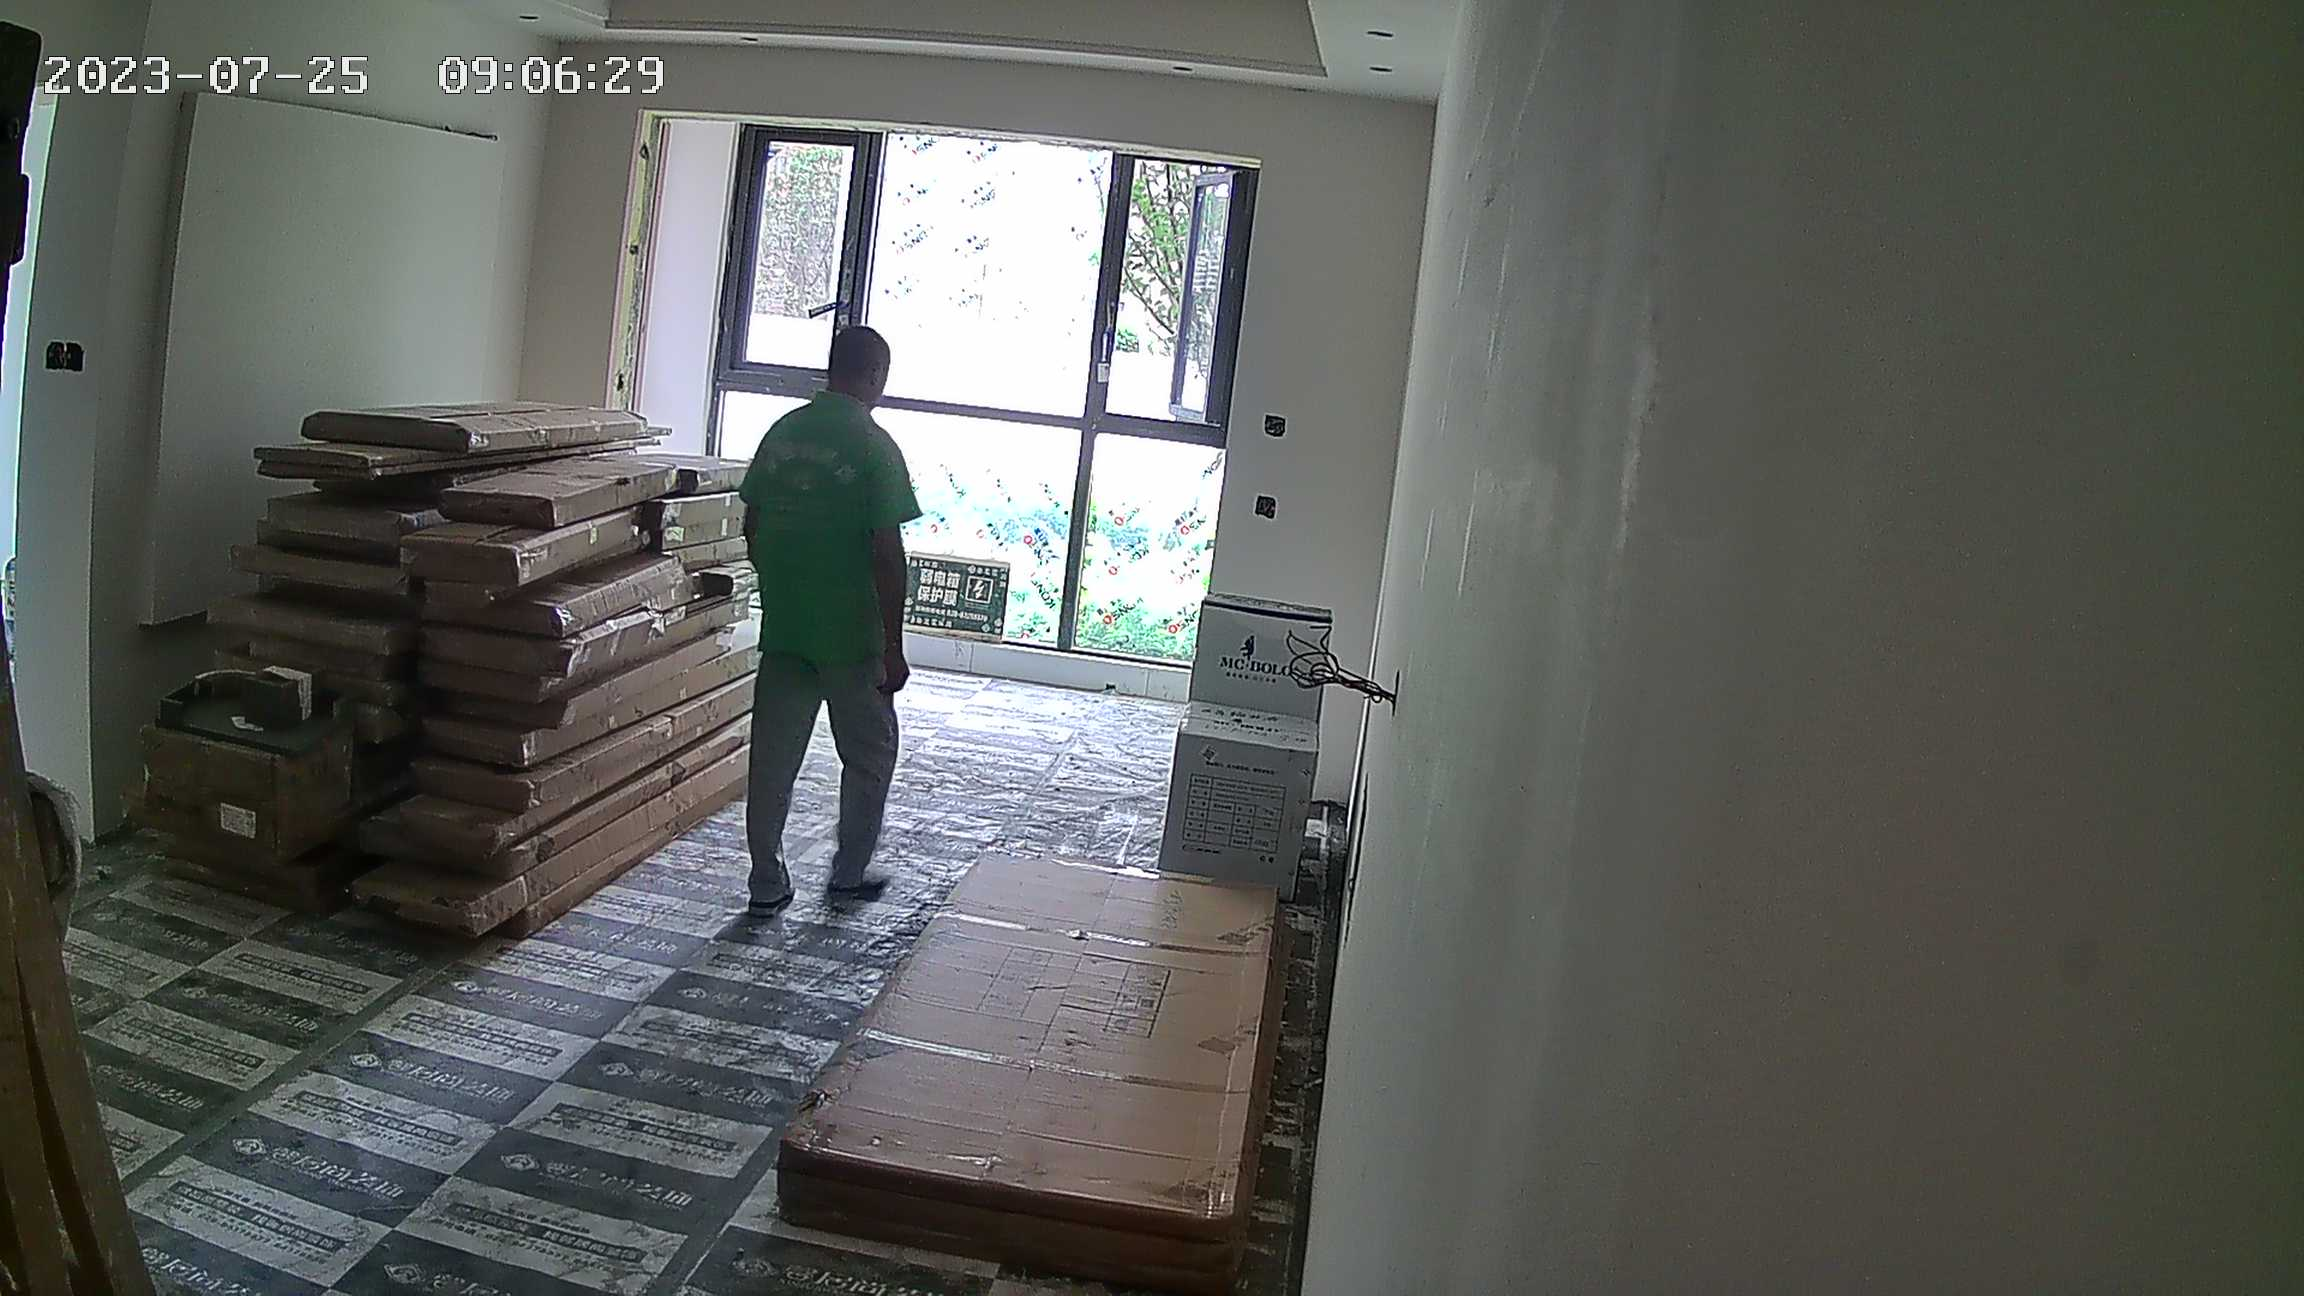people: (737, 333, 925, 945)
window: (730, 125, 1205, 643)
